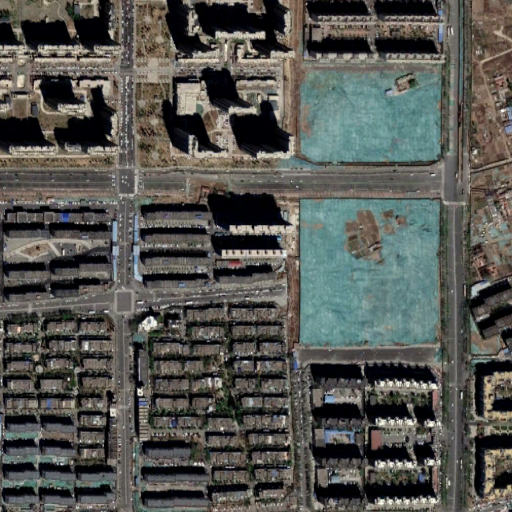cw: (300, 196, 441, 349), (299, 69, 442, 166)
